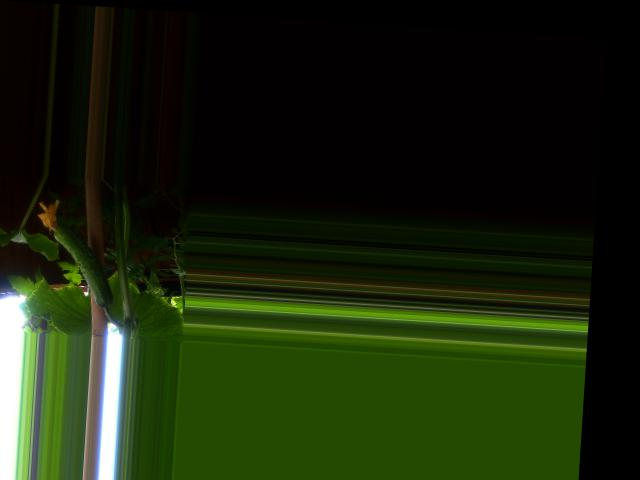cucumber: (31, 197, 118, 307)
